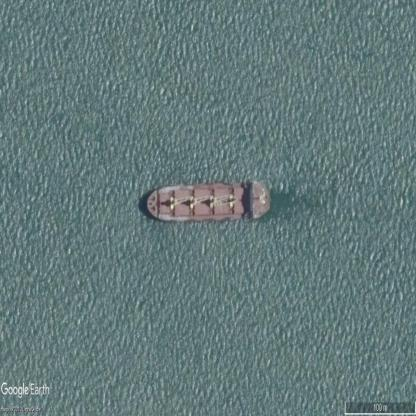ship: (146, 183, 269, 218)
